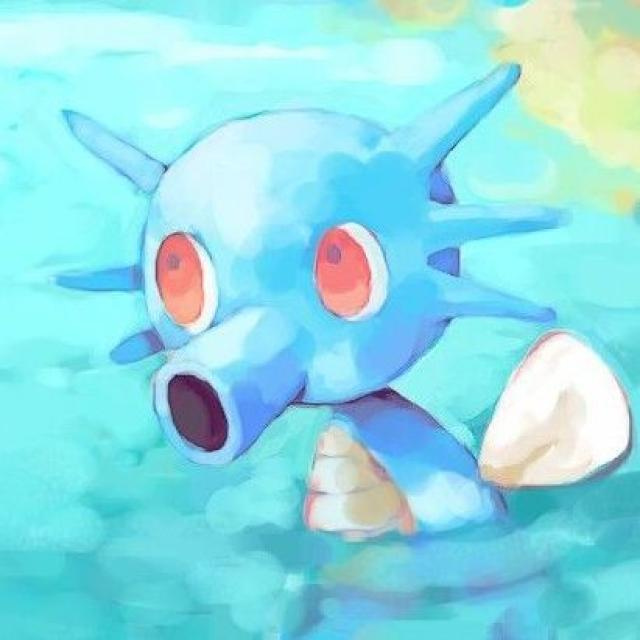Horsea: (114, 56, 574, 552)
